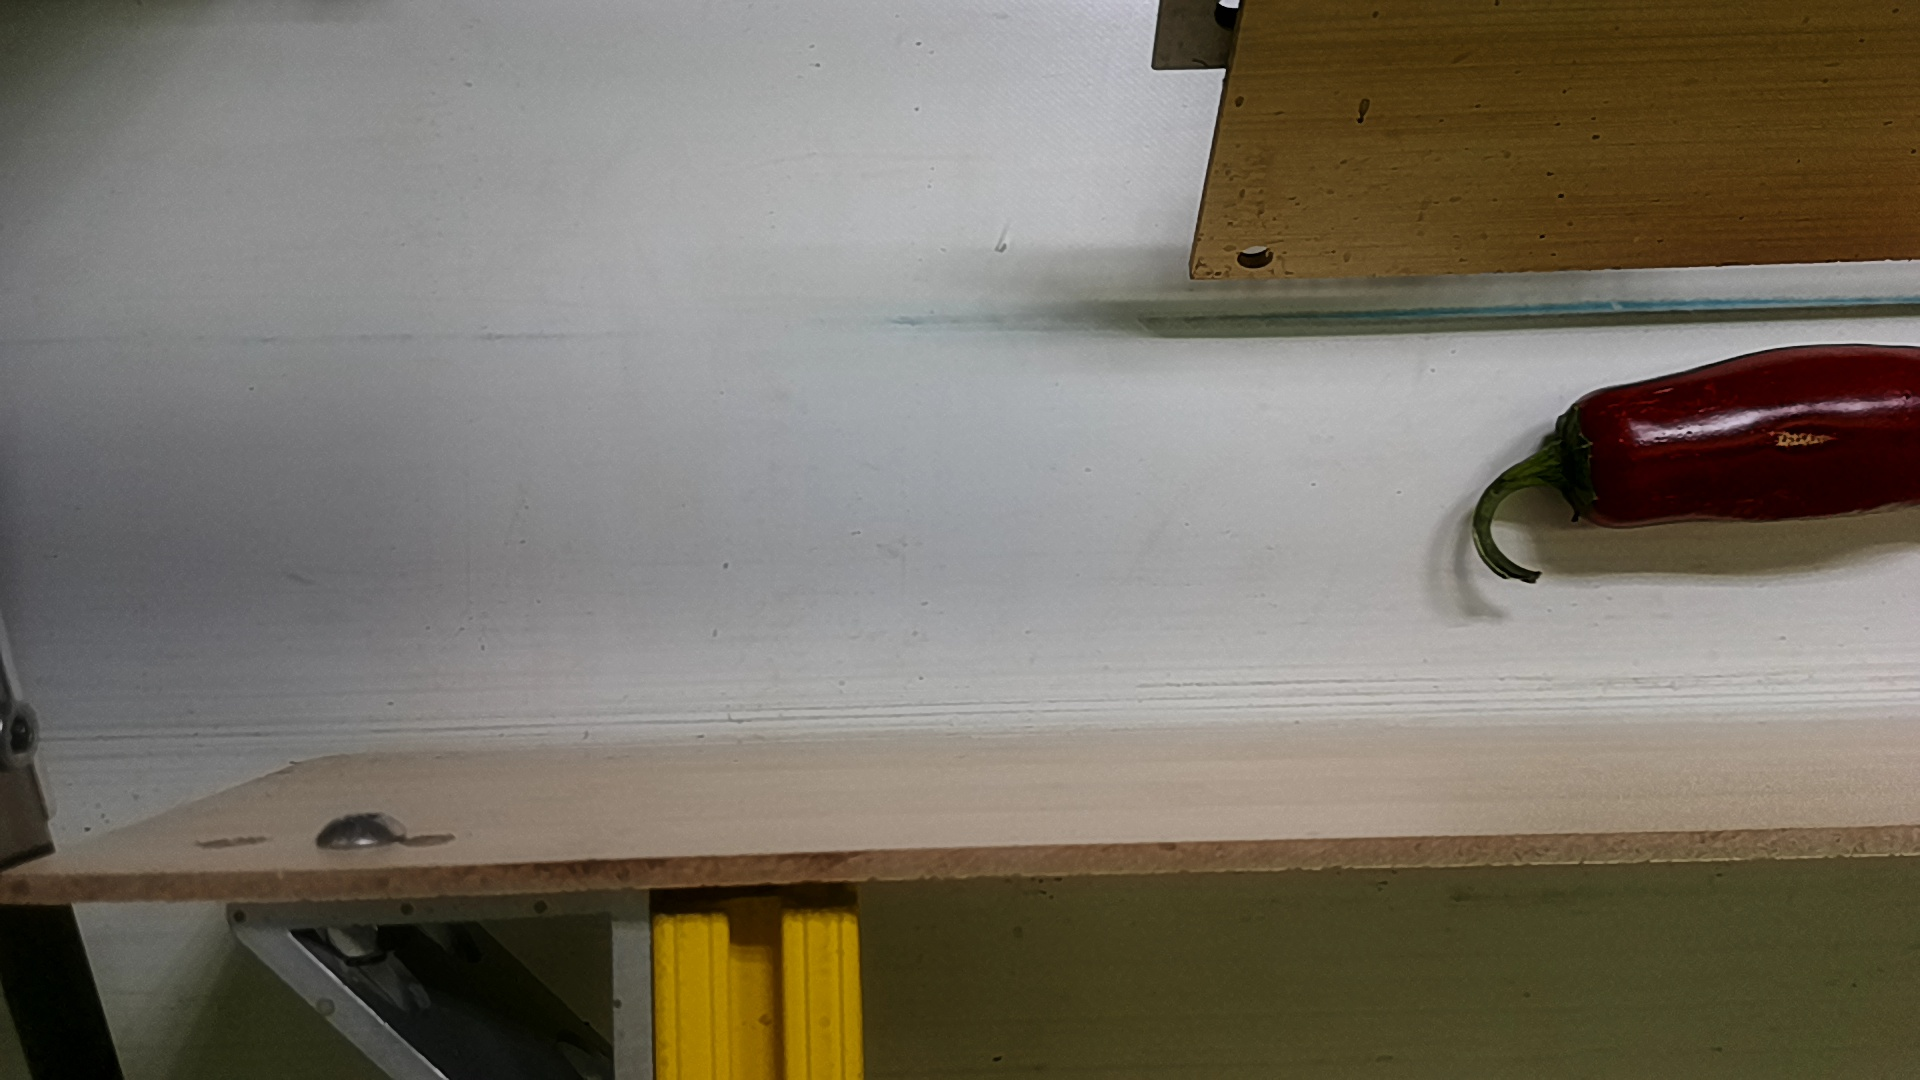Cut Point: (1538, 382, 1631, 535)
